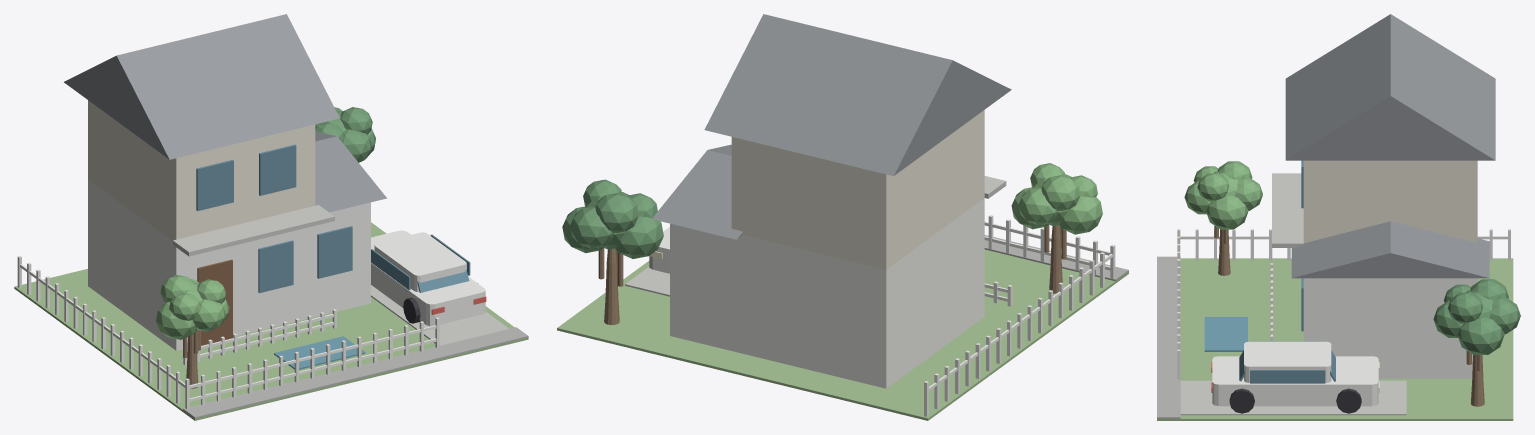
File: house.fbx
The picture shows the model from 3 angles, left to right: view 1: azimuth 30°, elevation 25°; view 2: azimuth 150°, elevation 25°; view 3: azimuth 270°, elevation 25°; orthographic projection. The views are drawn at different scales.
Visible parts, largest first — view 1: house; view 2: house; view 3: house.
Boxes of the visible parts, x1,y1,x2,y2 form: house: [14, 14, 528, 420]; house: [557, 14, 1128, 420]; house: [1157, 14, 1520, 420].
Bounding box in the file's own units: 996 × 740 × 919.
